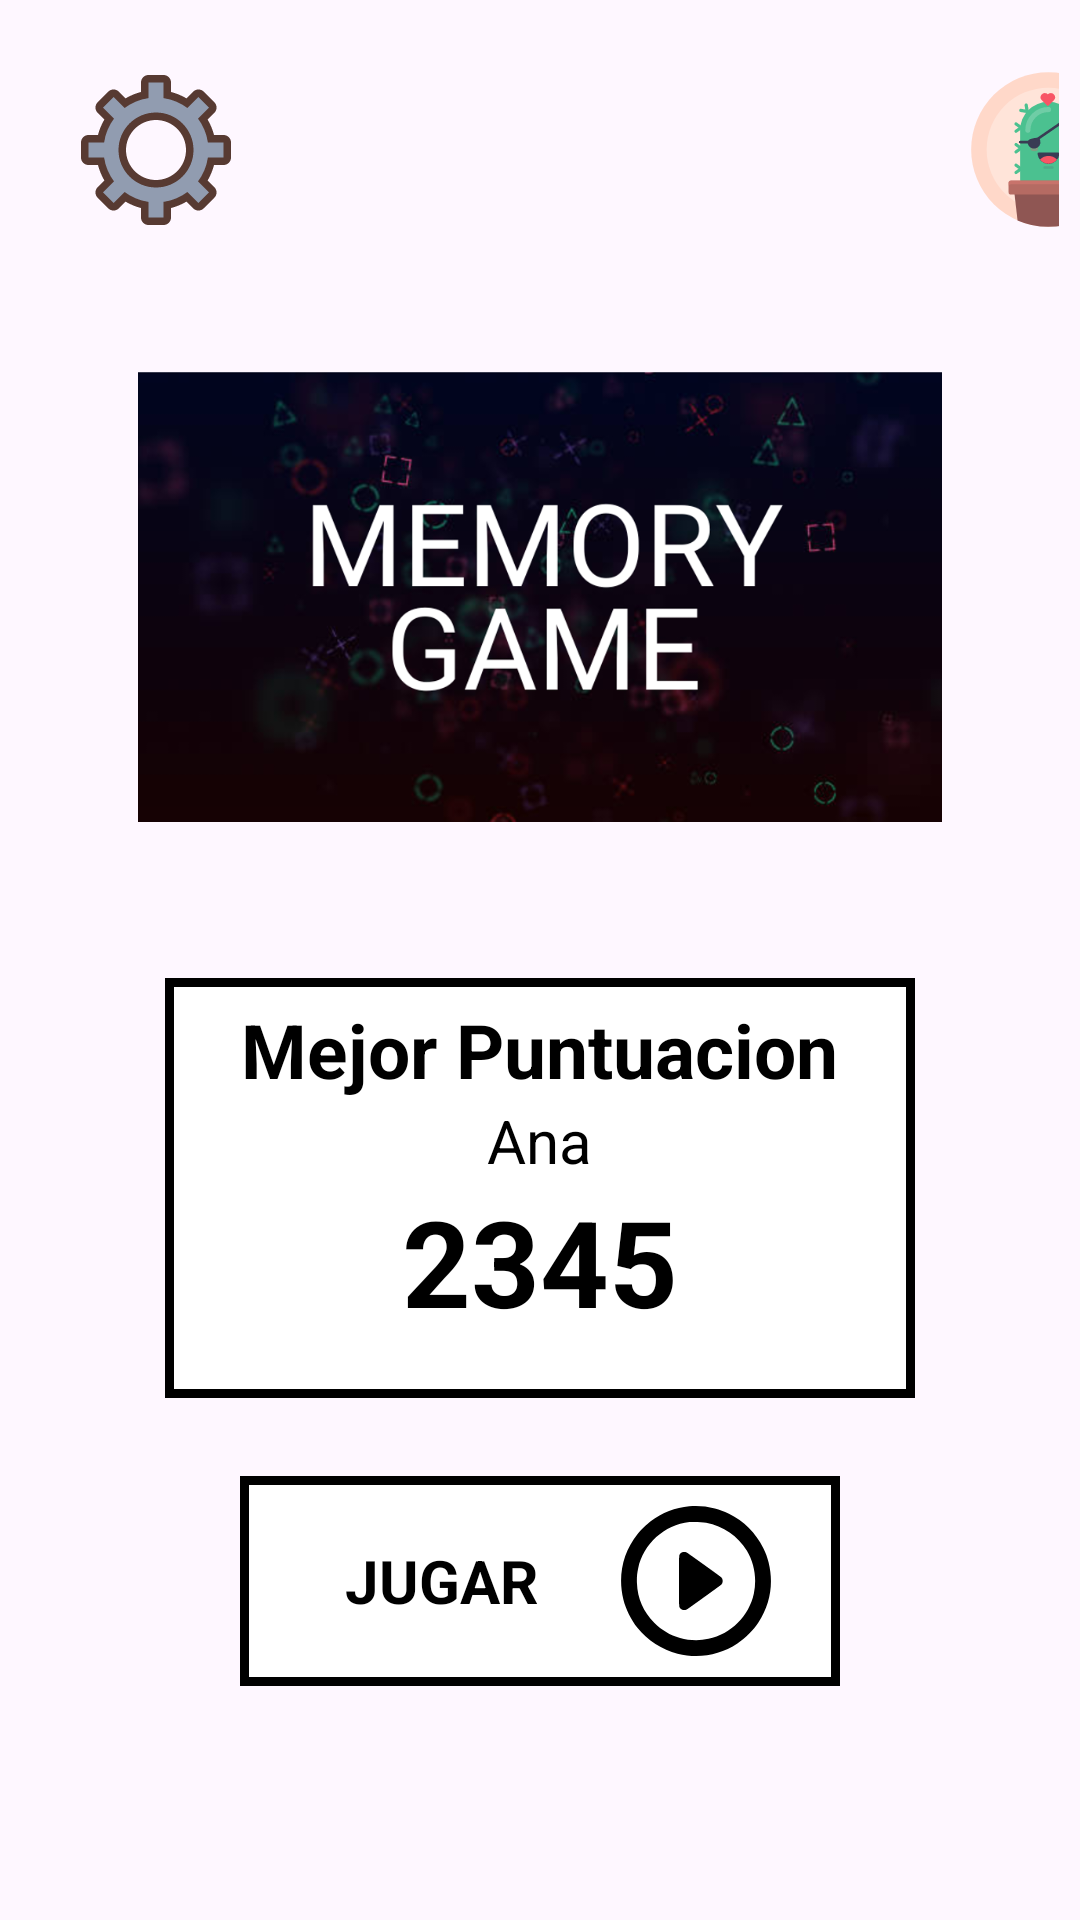

Icon bounding boxes for this 1080px×1920px phone screenshot, format (x1, y1, x2, y2):
ajustes: (81, 75, 231, 225)
de play: (621, 1506, 771, 1656)
